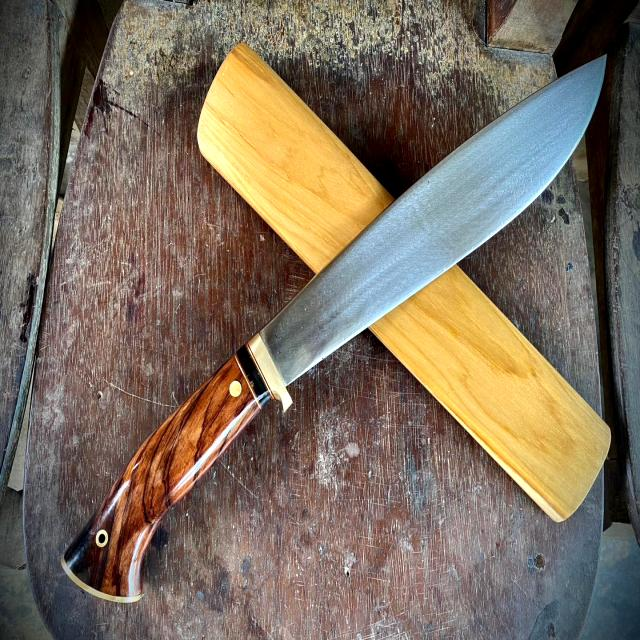short sword: (56, 48, 614, 625)
